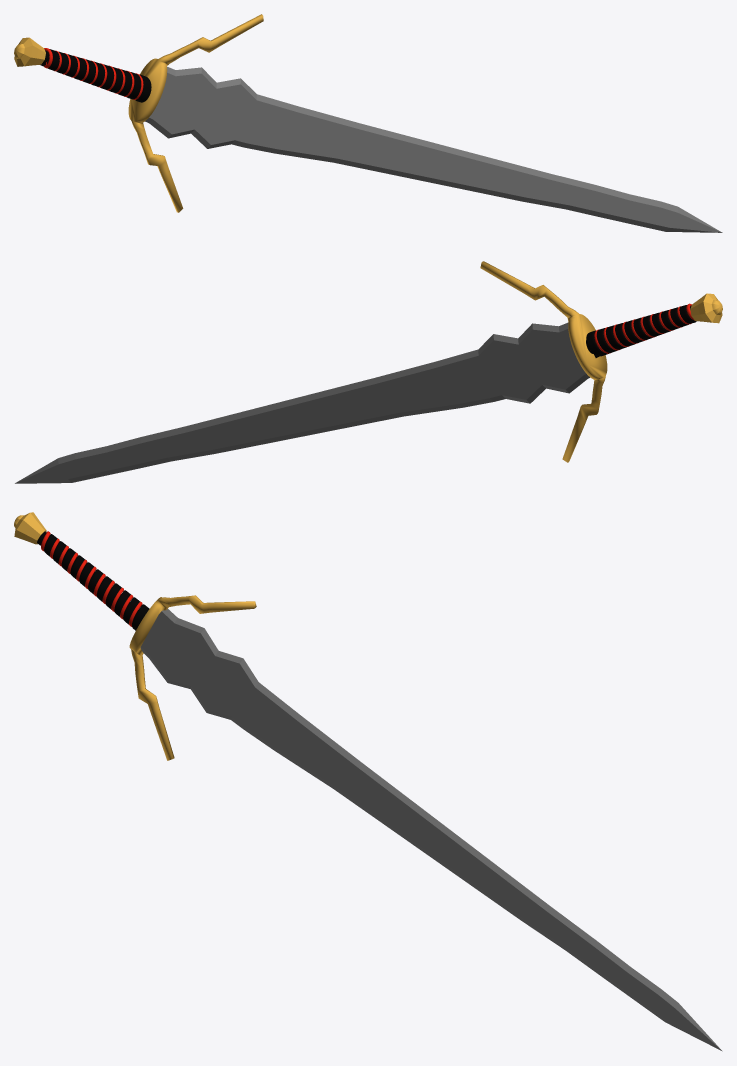
File: legendary Sword Colored.fbx
3 views of the same model, one above another, from view 1: azimuth 30°, elevation 25°; view 2: azimuth 150°, elevation 25°; view 3: azimuth 330°, elevation 25° (orthographic).
Visible parts, largest first — view 1: Sword; view 2: Sword; view 3: Sword.
Part boxes in pixels (x1,y1,x2,y2): Sword: (14,14,722,232); Sword: (15,261,722,483); Sword: (14,512,722,1051).
Bounding box in the file's own units: 750 × 367 × 34.13.
